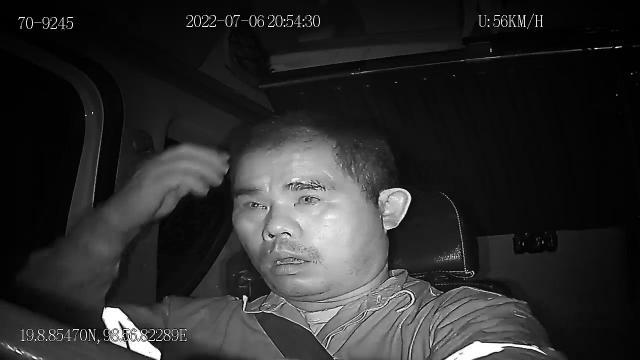SafeDriving: (286, 181, 328, 210), (236, 190, 274, 215)
Seatbelt: (225, 272, 337, 360)
